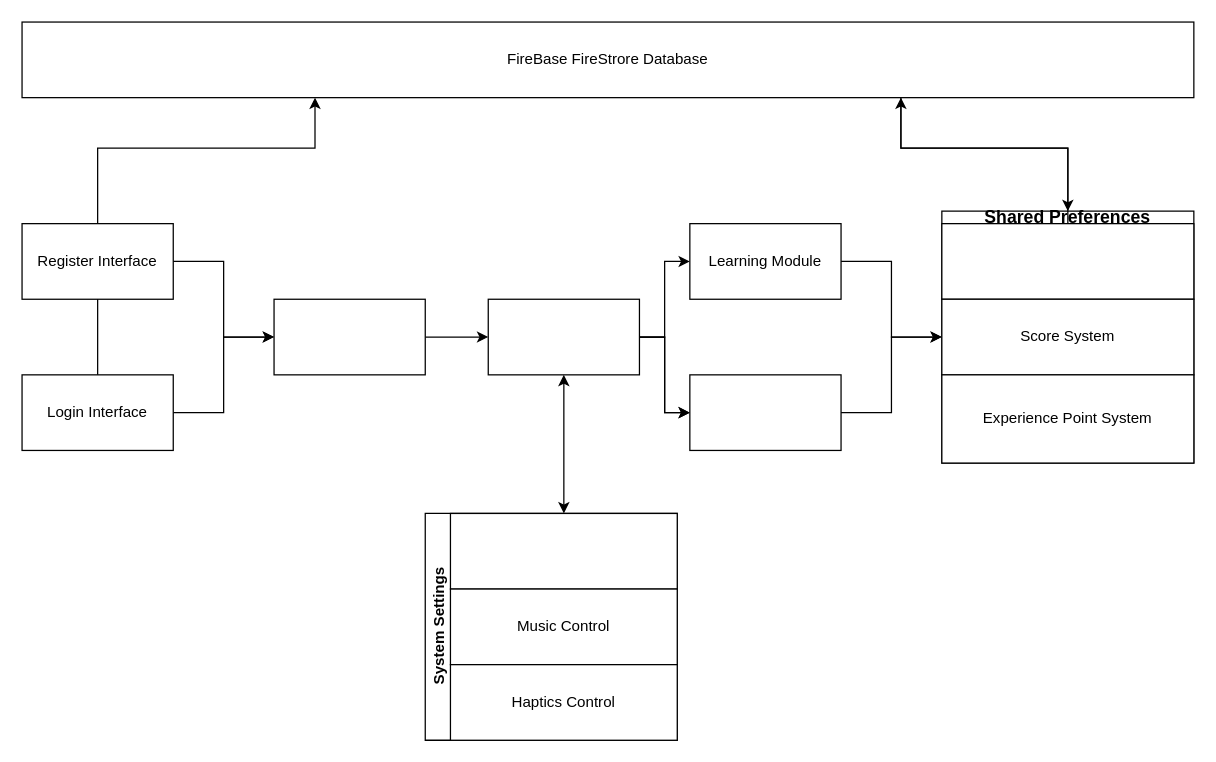
The diagram is 1216 pixels wide and 762 high, and some of its shapes have lost their labels. The centre of each missing label's shape, as x and y in pixels:
"Challenge Module" belongs at (765,412).
"Dashboard" belongs at (563,336).
"Firebase Auth" belongs at (349,336).
"Question Engine" belongs at (1067,260).
"Sound Feedback Control" belongs at (563,550).
